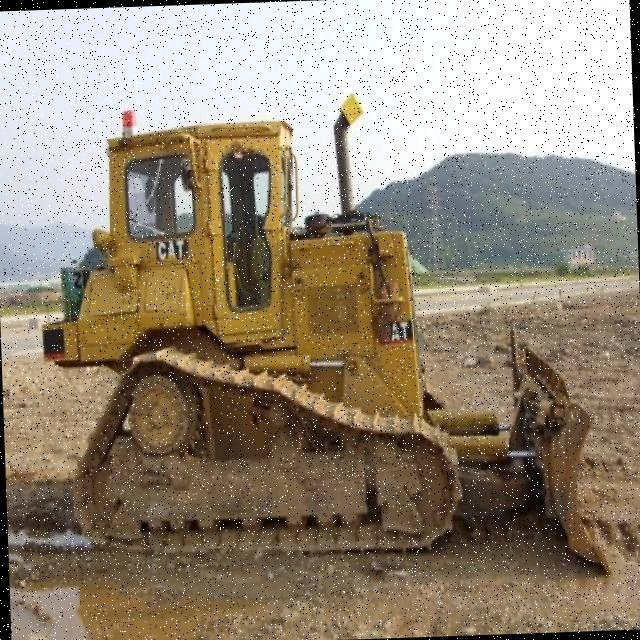Bulldozer: (22, 78, 613, 590)
